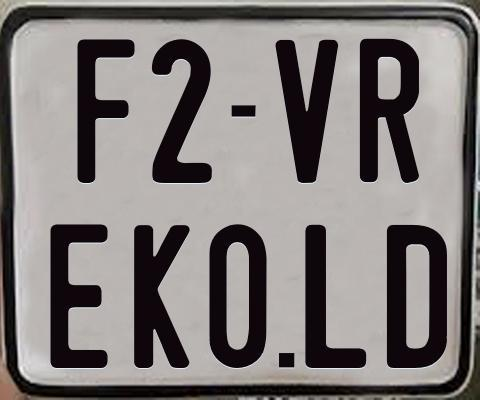0: (209, 223, 270, 370)
2: (149, 38, 209, 186)
D: (384, 222, 444, 371)
E: (50, 221, 109, 365)
F: (76, 37, 134, 183)
K: (132, 223, 191, 371)
L: (302, 224, 363, 367)
R: (358, 37, 421, 185)
V: (273, 37, 337, 181)
